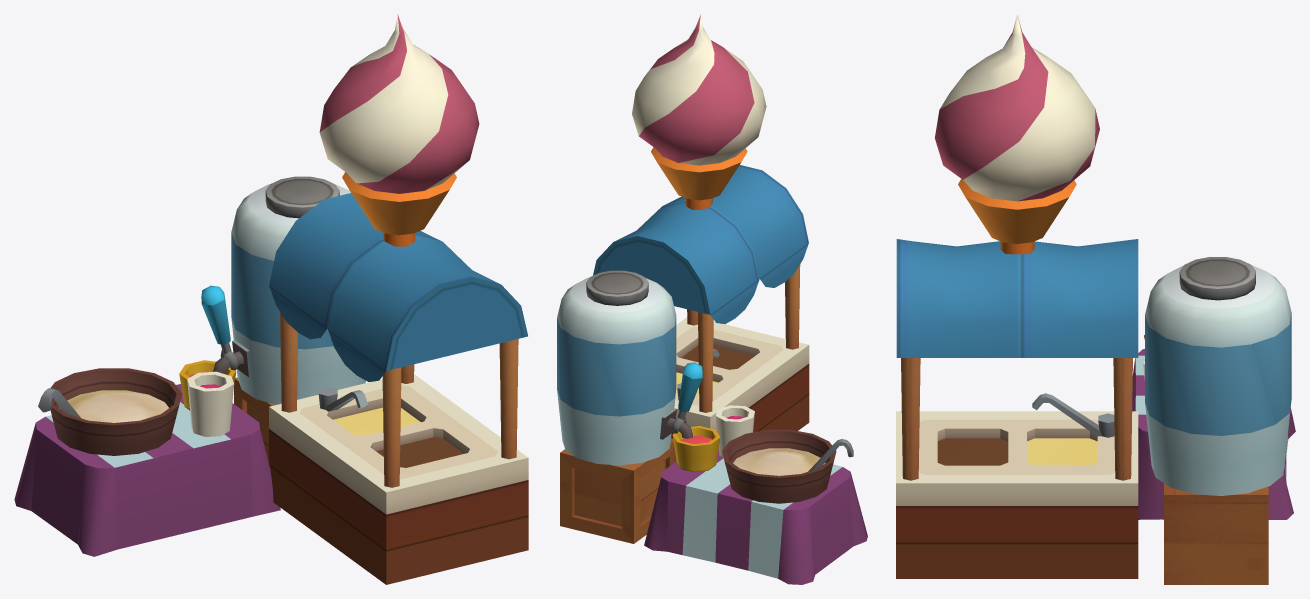
File: B_Desert_Station.fbx
3 views of the same model, side by side, from view 1: azimuth 30°, elevation 25°; view 2: azimuth 150°, elevation 25°; view 3: azimuth 270°, elevation 25° (orthographic). The views are drawn at different scales.
Parts seen in each view (by area): view 1: B_Desert_Station; view 2: B_Desert_Station; view 3: B_Desert_Station.
Boxes of the visible parts, x1,y1,x2,y2 form: B_Desert_Station: (14, 14, 528, 584); B_Desert_Station: (557, 14, 867, 584); B_Desert_Station: (896, 14, 1295, 584).
Bounding box in the file's own units: 4.05 × 6 × 3.97.
